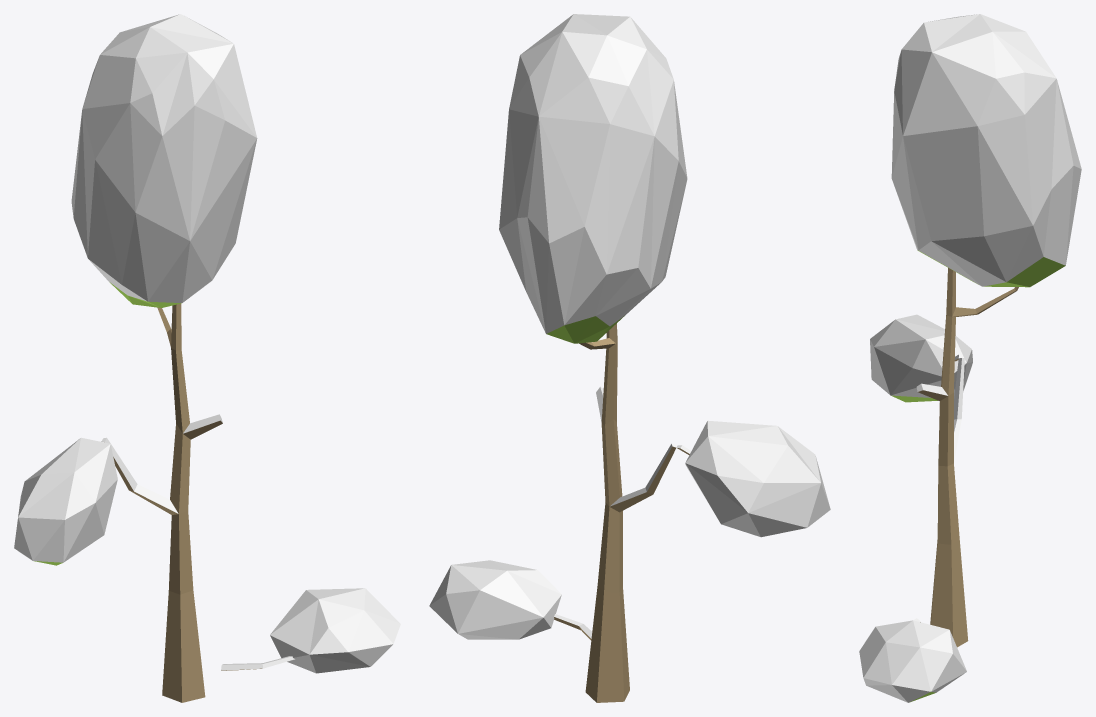
File: Random_Tree_crk_m_Snow_05_LOD.fbx
3 views of the same model, side by side, from view 1: azimuth 30°, elevation 25°; view 2: azimuth 150°, elevation 25°; view 3: azimuth 270°, elevation 25° (orthographic). The views are drawn at different scales.
Visible parts, largest first — view 1: Random_Tree_crk_m_Snow_05_LOD0; view 2: Random_Tree_crk_m_Snow_05_LOD0; view 3: Random_Tree_crk_m_Snow_05_LOD0.
Boxes of the visible parts, x1,y1,x2,y2 form: Random_Tree_crk_m_Snow_05_LOD0: [14, 14, 400, 702]; Random_Tree_crk_m_Snow_05_LOD0: [429, 14, 830, 702]; Random_Tree_crk_m_Snow_05_LOD0: [859, 14, 1081, 702].
Size of what is drawn, in the model's own units: 571 by 959 by 312.
